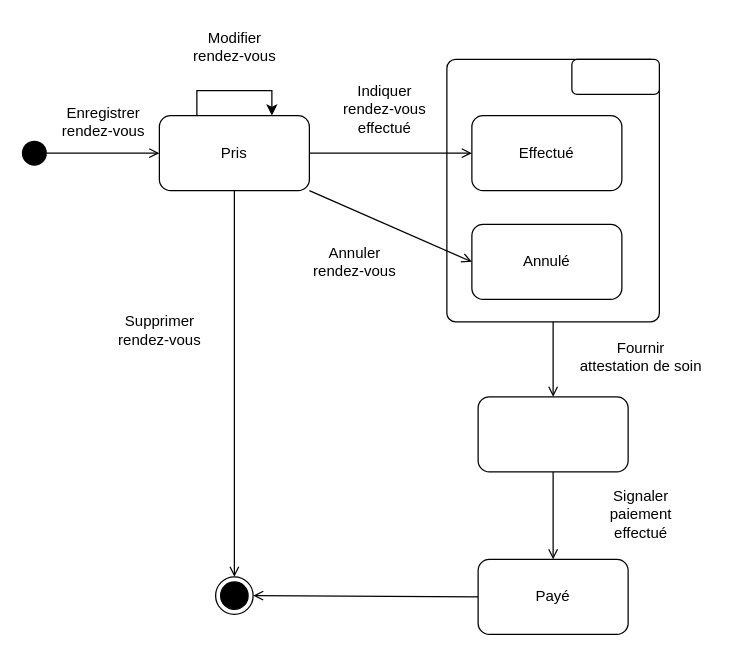
The diagram is 736 pixels wide and 656 high, and some of its shapes have lost their labels. Here are the shapes that lost their labels. From the top down, the centre of each, then its label:
the point at 615,76: à facturer
the point at 552,434: Facturé
